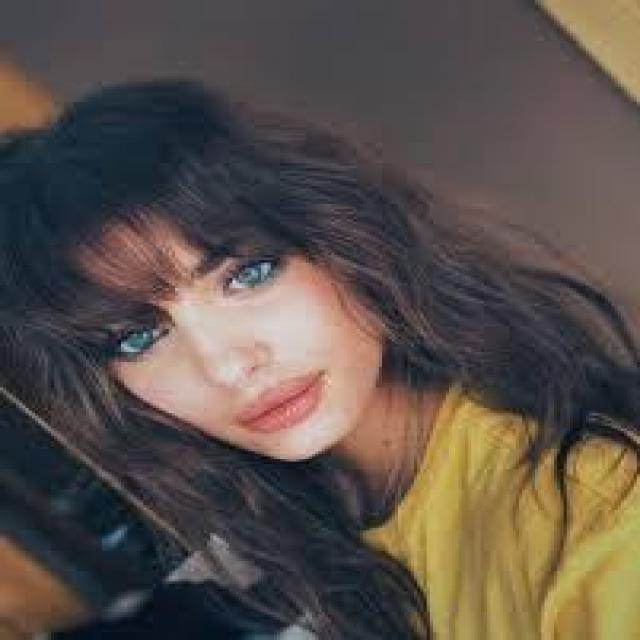person: (3, 97, 634, 637)
